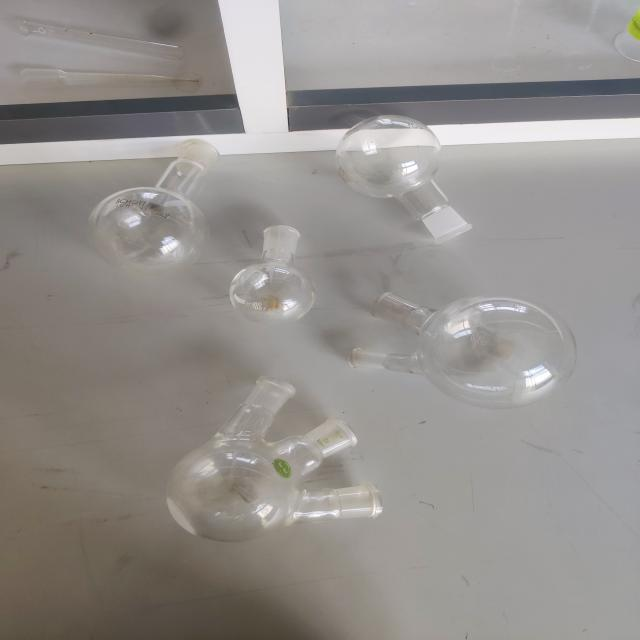Round_Bottom_Flask_Borosilicate_Glass_1_Neck: (314, 71, 514, 266), (69, 114, 239, 288), (207, 199, 338, 340)
Round_Bottom_Flask_Borosilicate_Glass_2_Neck: (324, 269, 598, 414)
Round_Bottom_Flask_Borosilicate_Glass_3_Neck: (128, 351, 418, 559)
